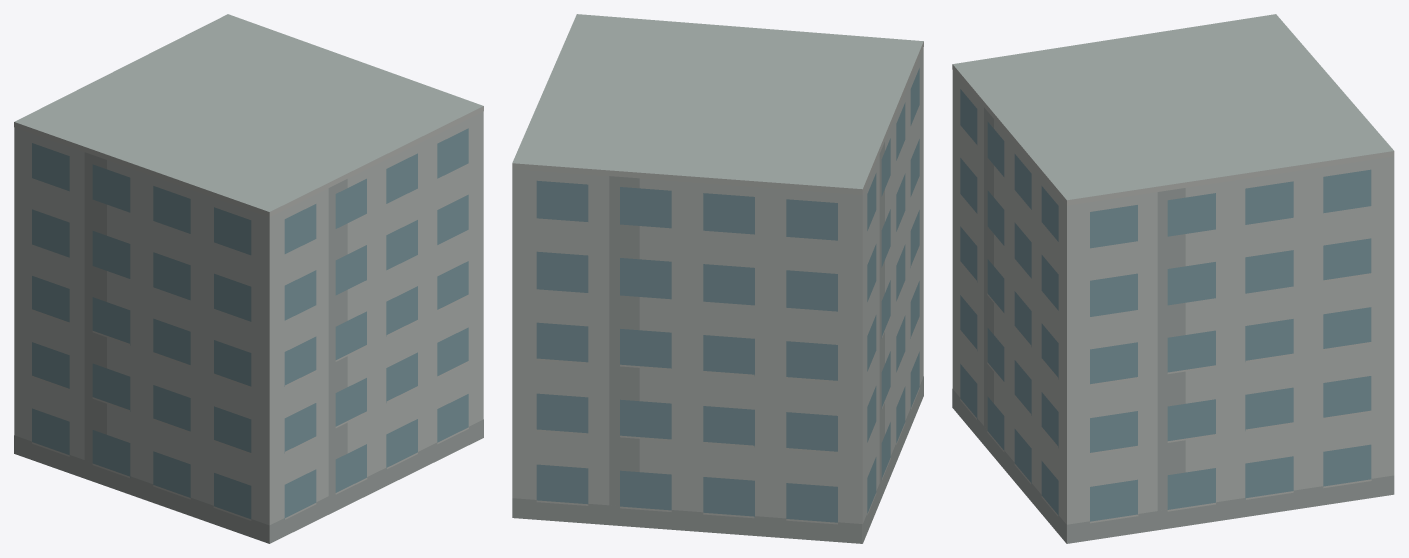
Rendered from survey-upis-32645388.glb.
The picture shows the model from 3 angles, left to right: view 1: azimuth 30°, elevation 25°; view 2: azimuth 150°, elevation 25°; view 3: azimuth 270°, elevation 25°; orthographic projection. The views are drawn at different scales.
Parts seen in each view (by area): view 1: survey-upis-32645388.tmp; view 2: survey-upis-32645388.tmp; view 3: survey-upis-32645388.tmp.
Boxes of the visible parts, x1,y1,x2,y2 form: survey-upis-32645388.tmp: (14,14,483,543); survey-upis-32645388.tmp: (512,14,923,543); survey-upis-32645388.tmp: (952,14,1394,543).
Size of the model in its own units: 17.73 by 15.25 by 17.78.
